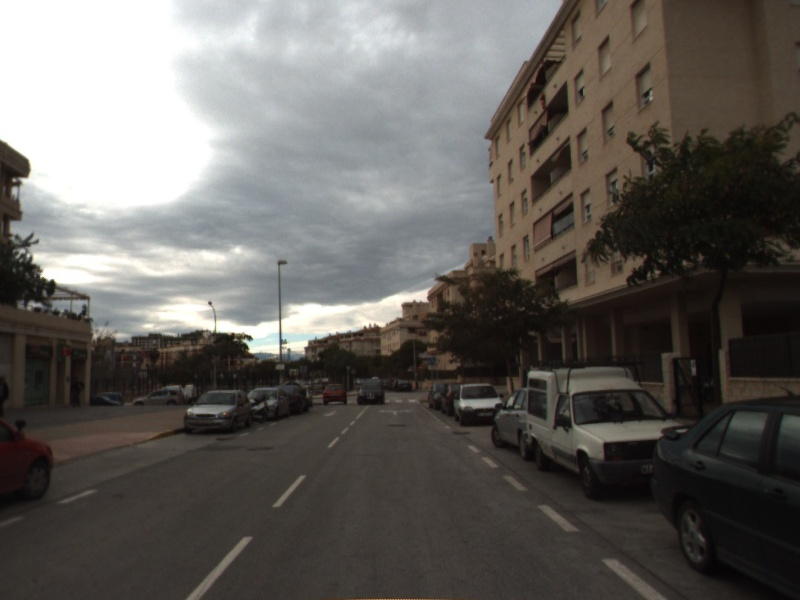LEFT_RIGHT: (376, 407, 415, 417)
